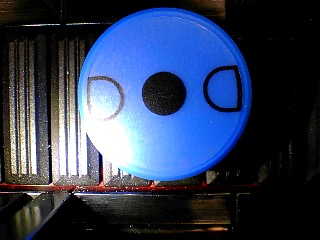BOHOMIPO2: (77, 7, 252, 181)
